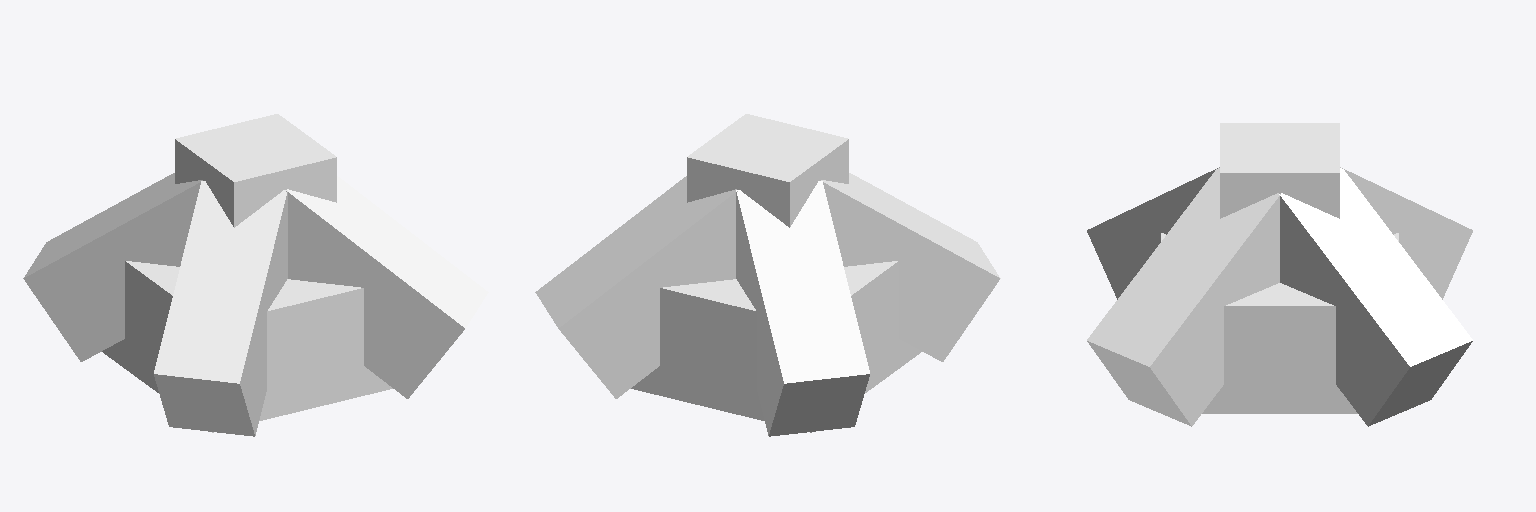
The model's file is mt_roof_ridge_single.obj.
3 views of the same model, side by side, from view 1: azimuth 30°, elevation 25°; view 2: azimuth 150°, elevation 25°; view 3: azimuth 270°, elevation 25° (orthographic).
Visible parts, largest first — view 1: cube; view 2: cube; view 3: cube.
Boxes of the visible parts, box(x1,y1,x2,y2) form: cube: box(23, 114, 488, 436); cube: box(535, 114, 1000, 436); cube: box(1087, 123, 1472, 426).
Bounding box in the file's own units: 1.62 × 1 × 1.62.